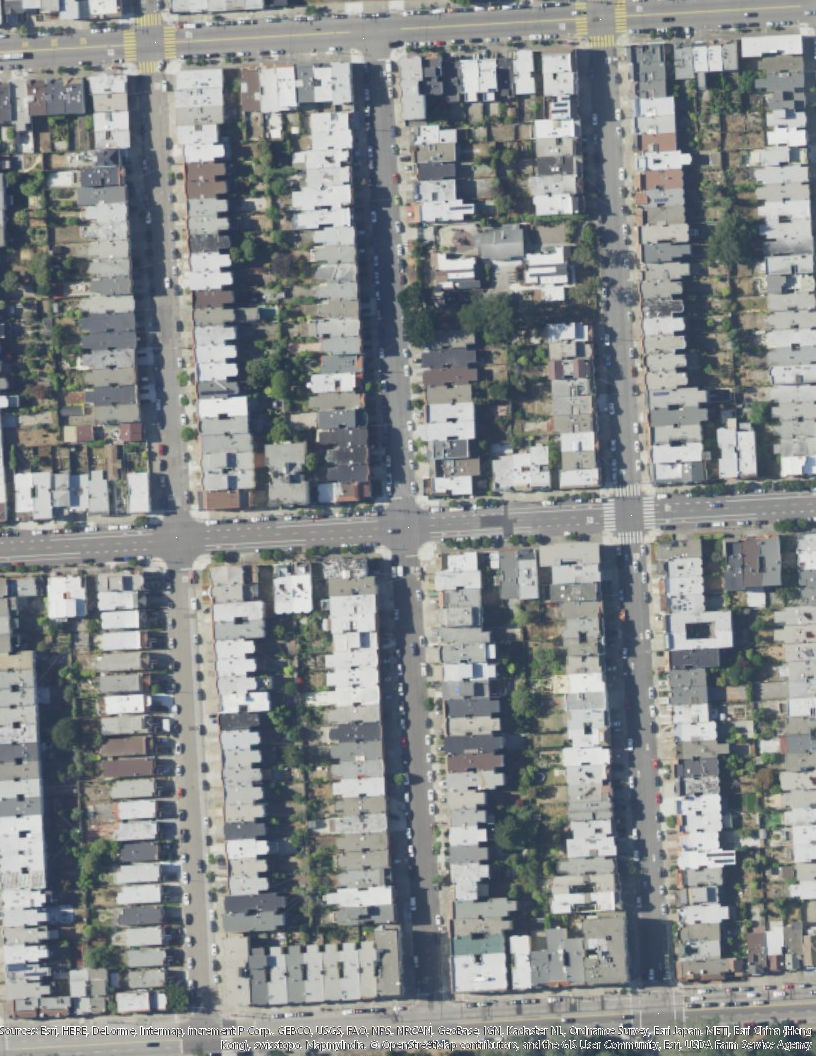zebracross: (122, 26, 138, 63), (641, 496, 657, 531), (573, 2, 589, 36), (161, 26, 176, 60), (613, 1, 628, 34), (603, 499, 616, 532), (133, 13, 162, 27), (617, 531, 643, 546), (616, 483, 640, 498), (590, 36, 614, 49), (138, 60, 158, 74)
